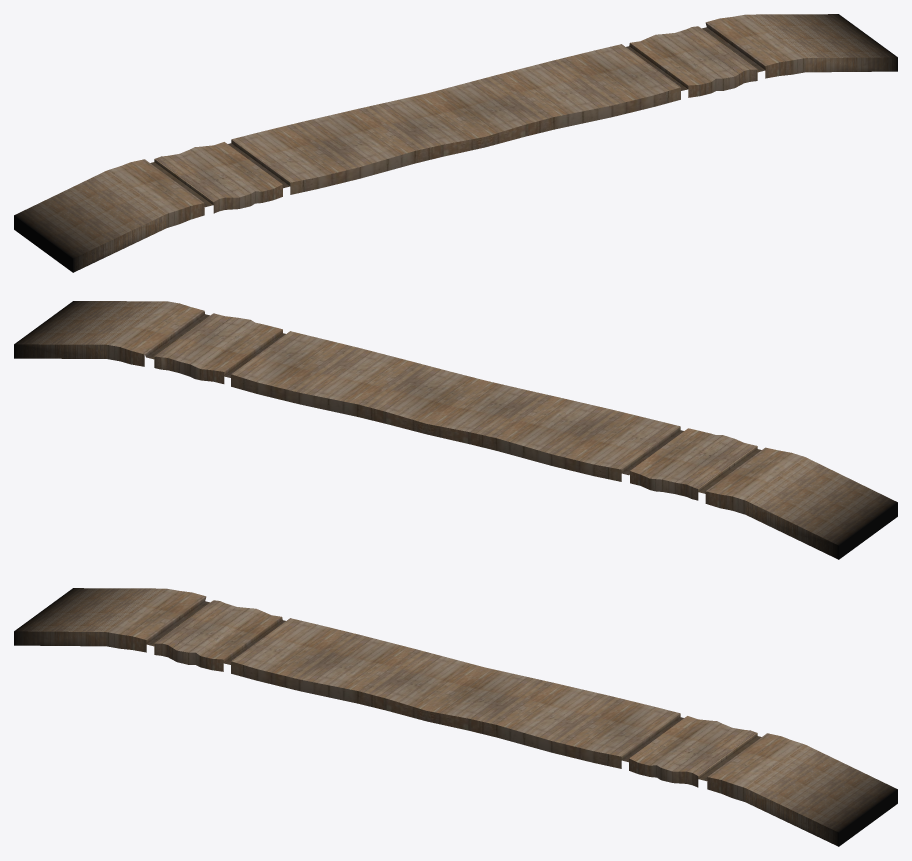
File: AMB_HUMIKIRI_ROAD_25_WOOD.glb
The picture shows the model from 3 angles, top to bottom: view 1: azimuth 30°, elevation 25°; view 2: azimuth 150°, elevation 25°; view 3: azimuth 330°, elevation 25°; orthographic projection.
Visible parts, largest first — view 1: humikiri, obj2, obj1; view 2: humikiri, obj2, obj1; view 3: humikiri, obj1, obj2.
Part boxes in pixels (box(x1,y1,x2,y2)): humikiri: box(231, 44, 680, 194); obj2: box(14, 140, 290, 272); obj1: box(626, 14, 897, 97); humikiri: box(231, 331, 680, 481); obj2: box(621, 427, 897, 559); obj1: box(14, 301, 285, 383); humikiri: box(231, 618, 680, 768); obj1: box(621, 714, 897, 846); obj2: box(14, 588, 285, 671).
Size of the model in its own units: 50.36 by 2.2 by 6.56.
Materials: 5 (5 with a texture image).
